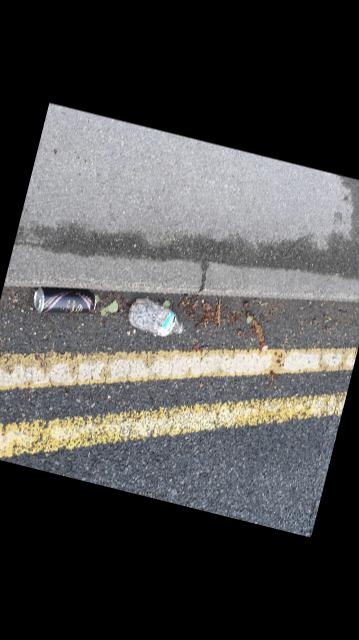metal: (32, 286, 95, 312)
plastic: (127, 297, 183, 335)
